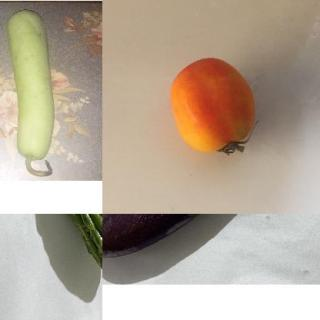Tomat: (169, 57, 258, 161)
